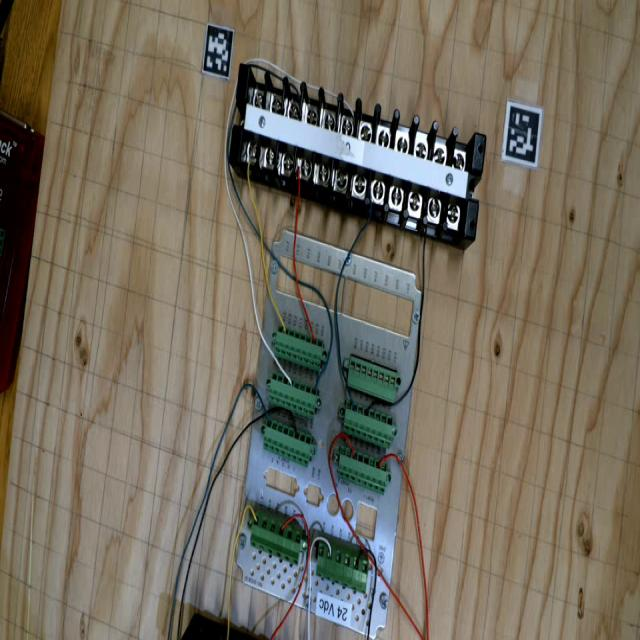Phillips_Block: (211, 56, 506, 240)
Terminal_1: (307, 540, 378, 594), (242, 511, 311, 566)
Terminal_2: (255, 416, 320, 468), (330, 444, 395, 495), (335, 398, 400, 449), (268, 324, 330, 372), (263, 371, 324, 418)
